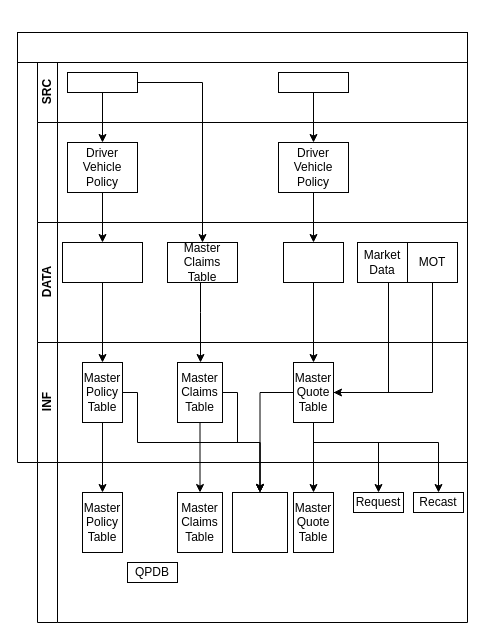
Some shapes in this 485 by 640 pixel diagram are drawn without their labels. Here are the shapes that lost their labels. From the top down, the box of each, then its label:
(16, 32, 468, 62): Data-Verse
(66, 72, 138, 92): ADL
(278, 72, 348, 92): Quotes
(36, 122, 468, 222): DENG_ETL
(62, 242, 142, 282): Master Transaction Table
(282, 242, 344, 282): REQ_RES
(36, 462, 468, 622): PUB
(232, 492, 288, 552): Master Analysis Table
